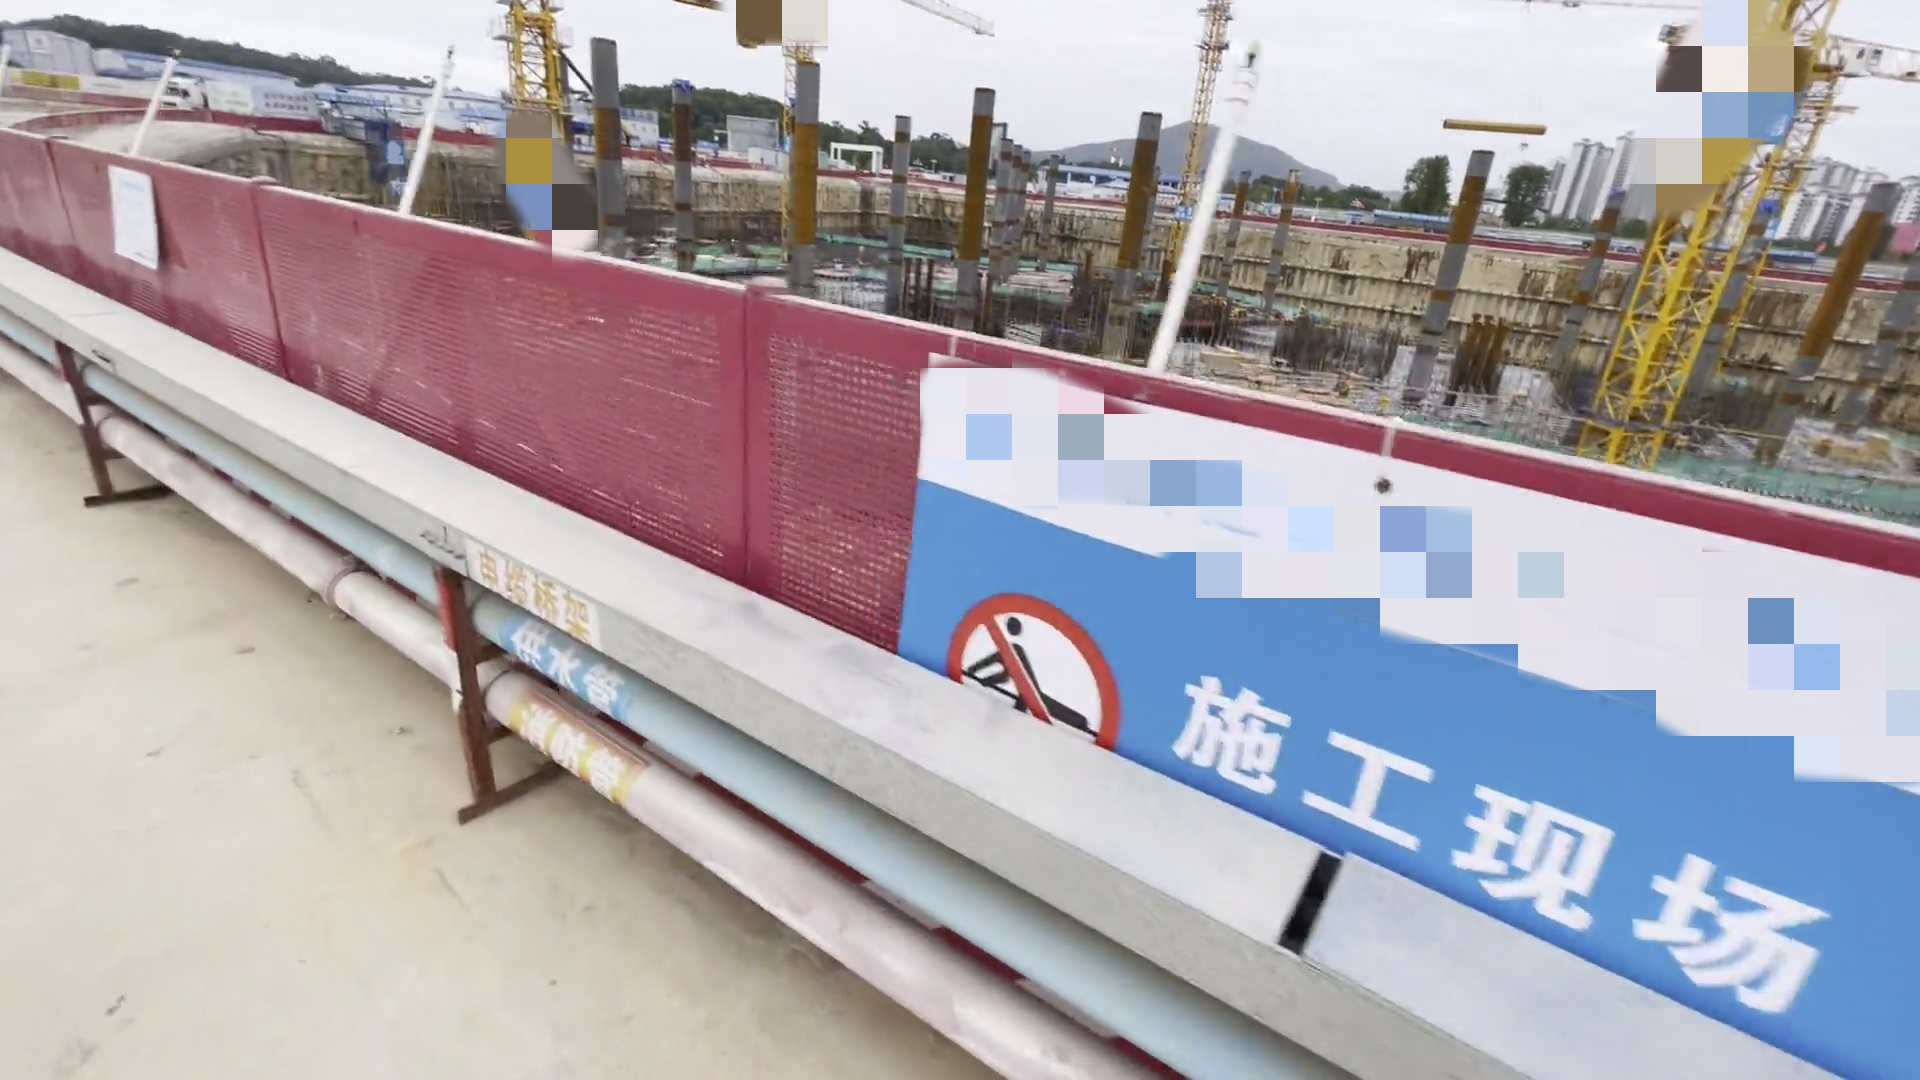fence: (1, 96, 893, 636)
slogan: (919, 384, 1920, 1023)
